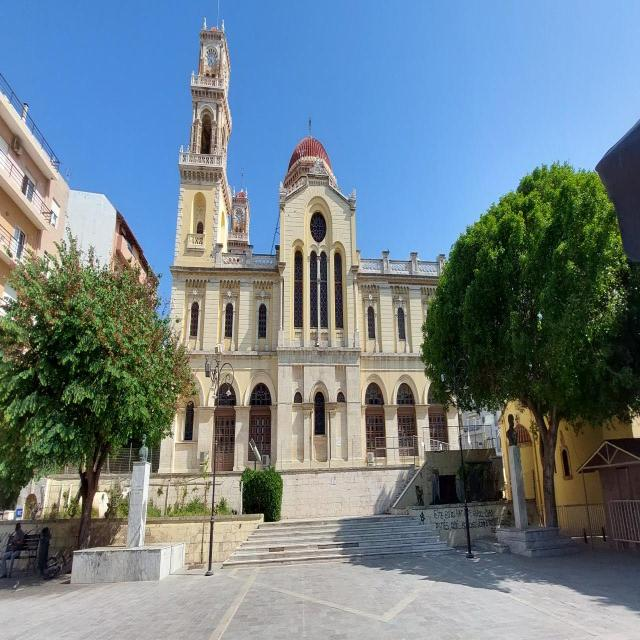Agios Minas: (157, 3, 462, 463)
